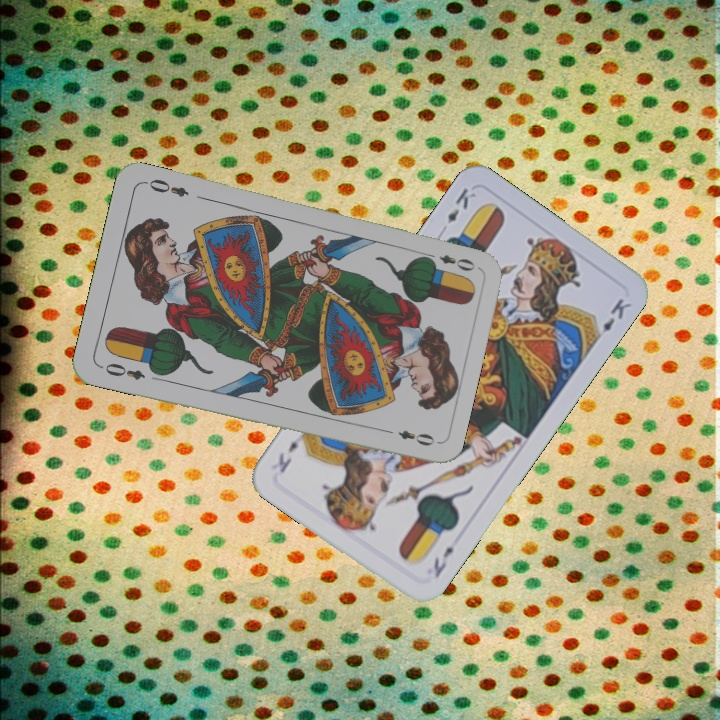EK: (443, 184, 479, 226), (429, 542, 457, 581)
EO: (420, 248, 478, 274), (101, 359, 148, 383)
